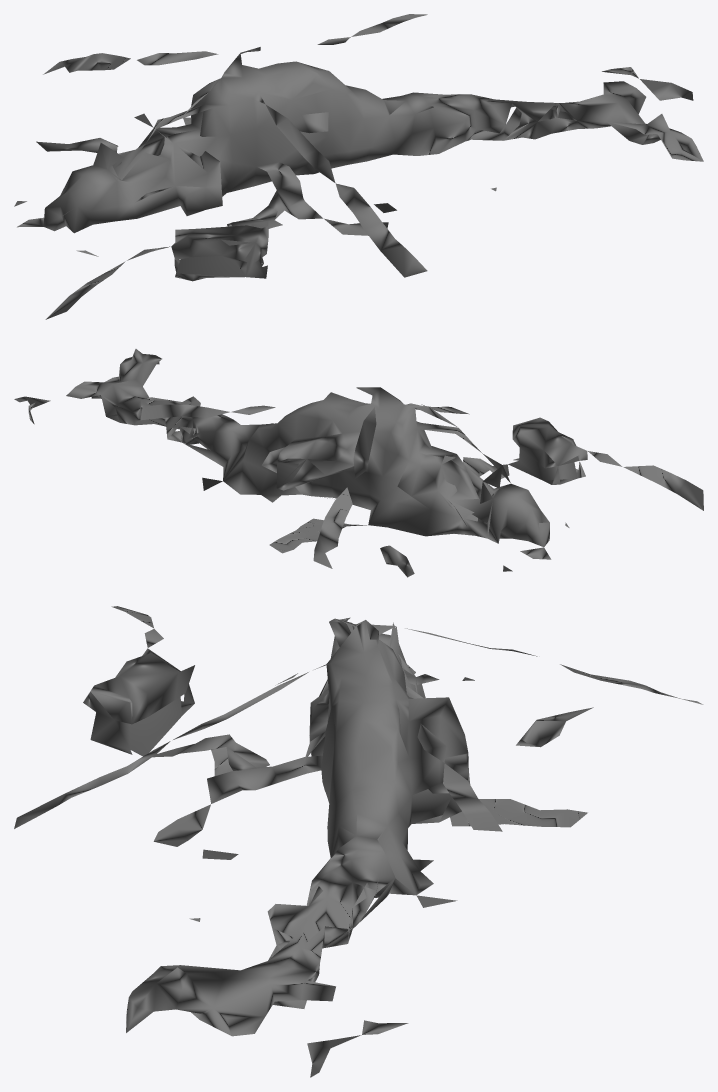
Rendered from crashed_helicopter.glb.
3 renders of one model, top to bottom at view 1: azimuth 30°, elevation 25°; view 2: azimuth 150°, elevation 25°; view 3: azimuth 270°, elevation 25°, orthographic. The views are drawn at different scales.
Parts seen in each view (by area): view 1: crashed_helicopter; view 2: crashed_helicopter; view 3: crashed_helicopter.
Boxes of the visible parts, bbox=[...] form: crashed_helicopter: bbox=[14, 14, 703, 319]; crashed_helicopter: bbox=[14, 349, 703, 577]; crashed_helicopter: bbox=[14, 606, 703, 1077].
Size of the model in its own units: 14.73 by 2.71 by 9.35.
Materials: 1 (1 with a texture image).
